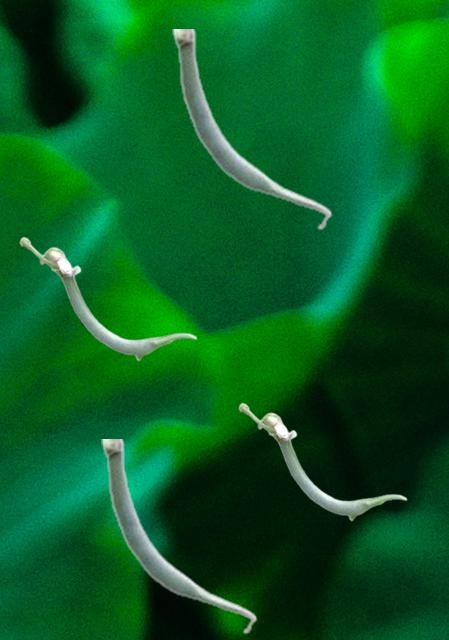french_bean: (172, 29, 331, 230), (101, 439, 256, 634), (19, 236, 196, 360), (238, 402, 406, 520)
